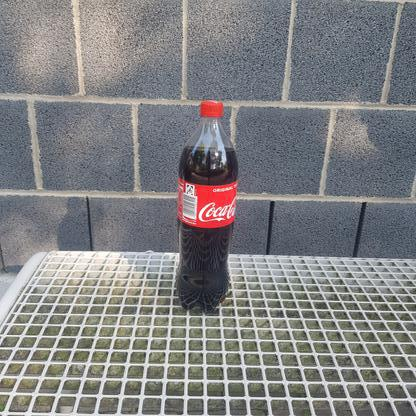coca-cola: (176, 99, 241, 319)
